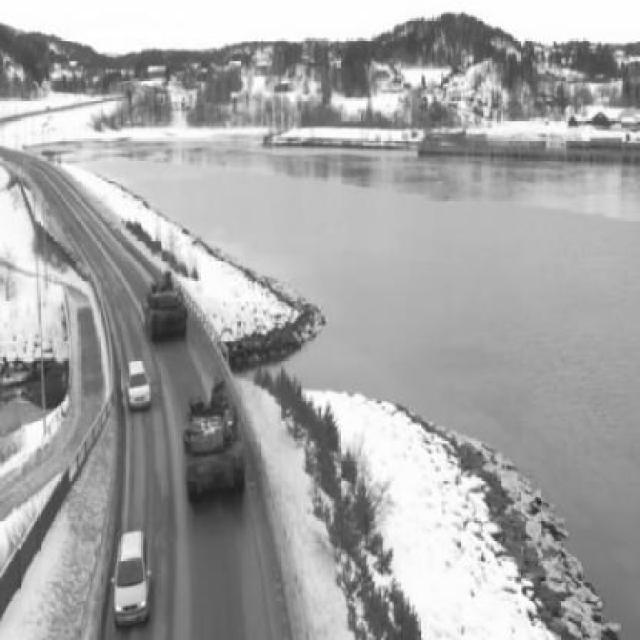Vehicle: (183, 390, 247, 501), (111, 529, 153, 628), (142, 276, 189, 345), (125, 356, 154, 413)
